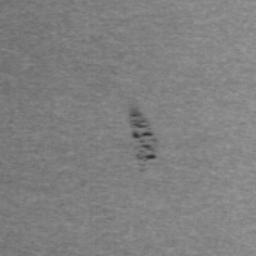Secondary rust skin: (128, 106, 155, 140), (135, 143, 158, 161)
